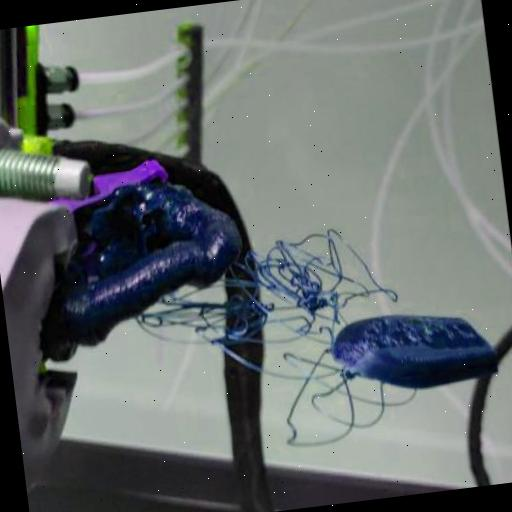spaghetti: (120, 212, 416, 400), (272, 366, 422, 453)
